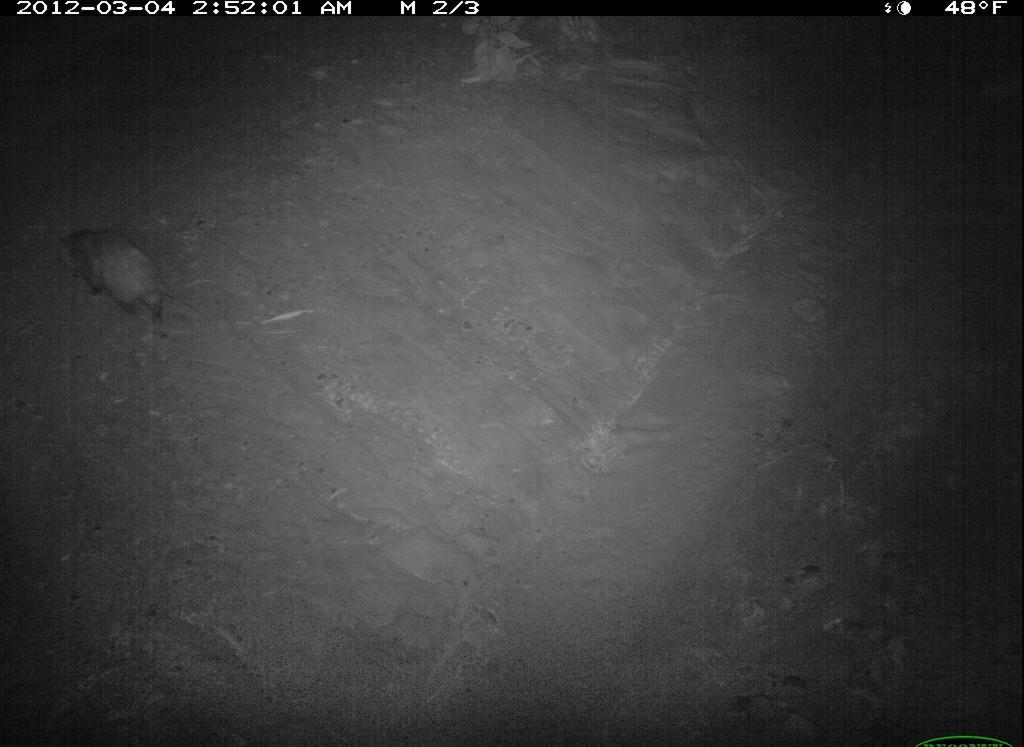opossum: (49, 212, 219, 338)
